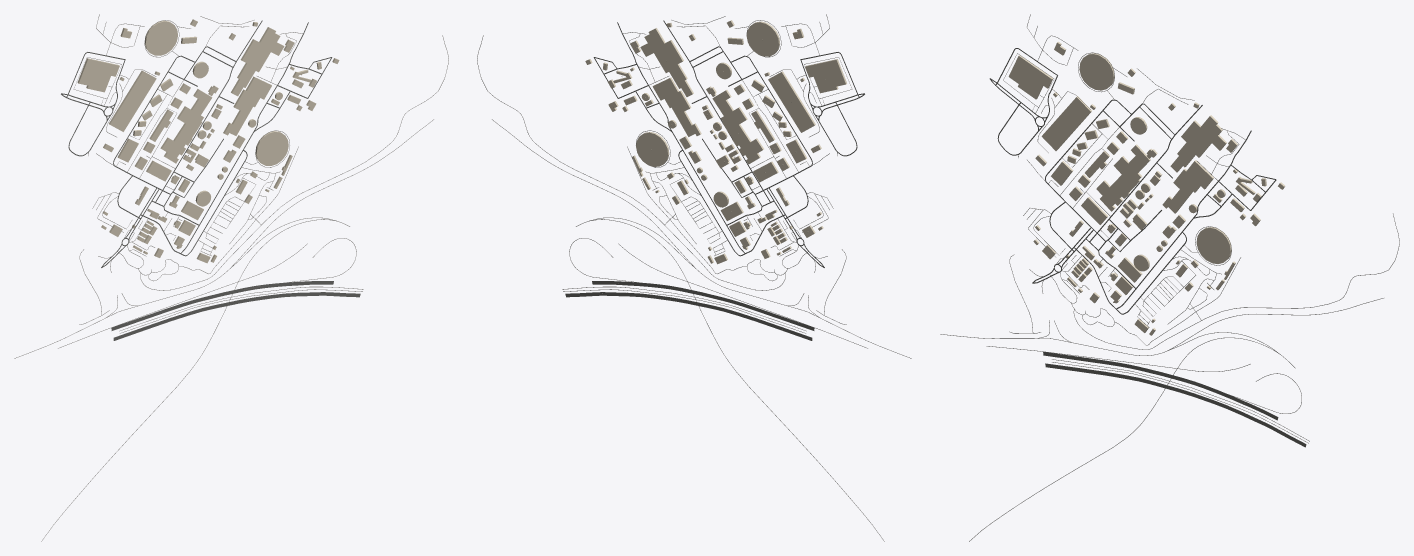
The model's file is historic-palestine-07_25_3489_3191.glb.
The picture shows the model from 3 angles, left to right: view 1: azimuth 30°, elevation 25°; view 2: azimuth 150°, elevation 25°; view 3: azimuth 330°, elevation 25°; orthographic projection. The views are drawn at different scales.
Visible parts, largest first — view 1: Building_.065, Building_.072, Building_.001, Building_.059, Building_.088, Building_, Building_.002; view 2: Building_.065, Building_.072, Building_.001, Building_.059, Building_.088, Building_, Building_.002; view 3: Building_.065, Building_.072, Building_.001, Building_.059, Building_.088, Building_, Building_.002.
Boxes of the visible parts, x1=… form: Building_.065: x1=160, y1=89, x2=212, y2=163; Building_.072: x1=231, y1=27, x2=284, y2=96; Building_.001: x1=109, y1=70, x2=156, y2=131; Building_.059: x1=223, y1=76, x2=271, y2=135; Building_.088: x1=77, y1=58, x2=119, y2=92; Building_: x1=144, y1=20, x2=177, y2=55; Building_.002: x1=255, y1=131, x2=288, y2=165; Building_.065: x1=712, y1=90, x2=763, y2=164; Building_.072: x1=640, y1=28, x2=693, y2=96; Building_.001: x1=768, y1=71, x2=815, y2=132; Building_.059: x1=652, y1=77, x2=701, y2=136; Building_.088: x1=805, y1=59, x2=846, y2=93; Building_: x1=746, y1=21, x2=780, y2=56; Building_.002: x1=636, y1=132, x2=669, y2=166; Building_.065: x1=1096, y1=144, x2=1150, y2=211; Building_.072: x1=1170, y1=115, x2=1226, y2=172; Building_.001: x1=1041, y1=96, x2=1091, y2=150; Building_.059: x1=1162, y1=160, x2=1213, y2=213; Building_.088: x1=1008, y1=55, x2=1053, y2=99; Building_: x1=1079, y1=53, x2=1114, y2=90; Building_.002: x1=1196, y1=227, x2=1231, y2=263.
Size of the model in its own units: 1546 by 1745 by 8.7.
